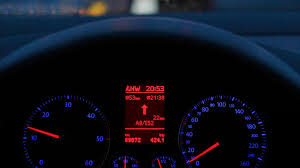Digital_Meter: (124, 84, 166, 144)
